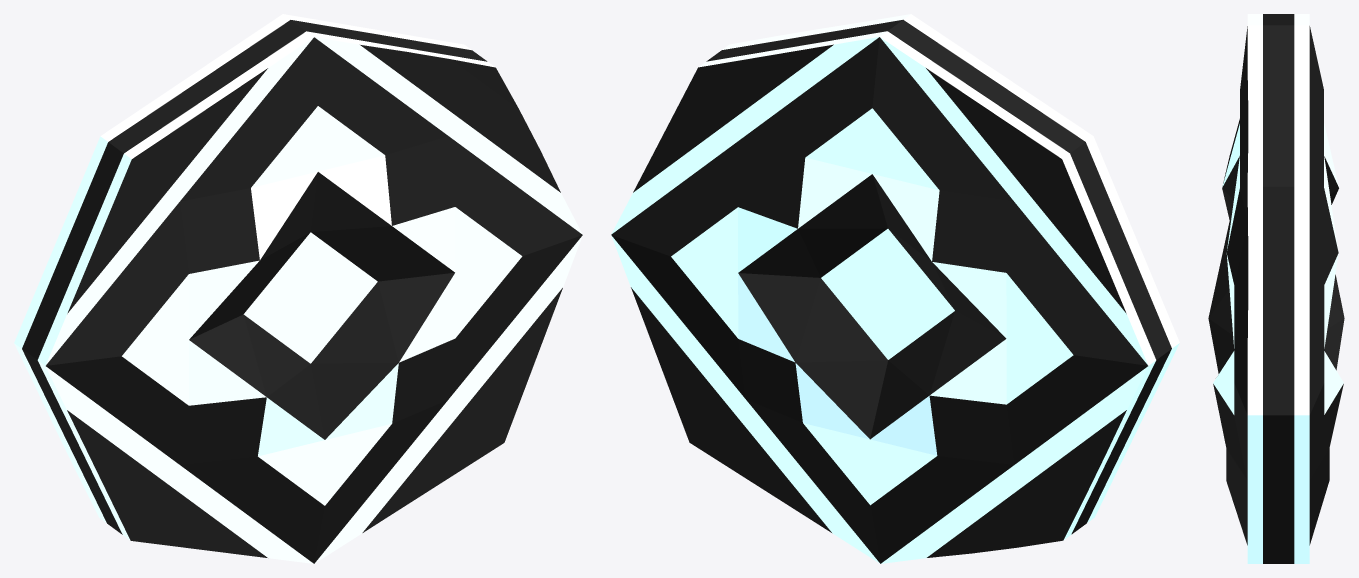
The model's file is blueTablet.fbx.
The picture shows the model from 3 angles, left to right: view 1: azimuth 30°, elevation 25°; view 2: azimuth 150°, elevation 25°; view 3: azimuth 270°, elevation 25°; orthographic projection.
Visible parts, largest first — view 1: Cube; view 2: Cube; view 3: Cube.
Part boxes in pixels (bbox=[...]): Cube: bbox=[14, 14, 582, 563]; Cube: bbox=[611, 14, 1179, 563]; Cube: bbox=[1208, 14, 1344, 563].
Bounding box in the file's own units: 146 × 137 × 32.47.
